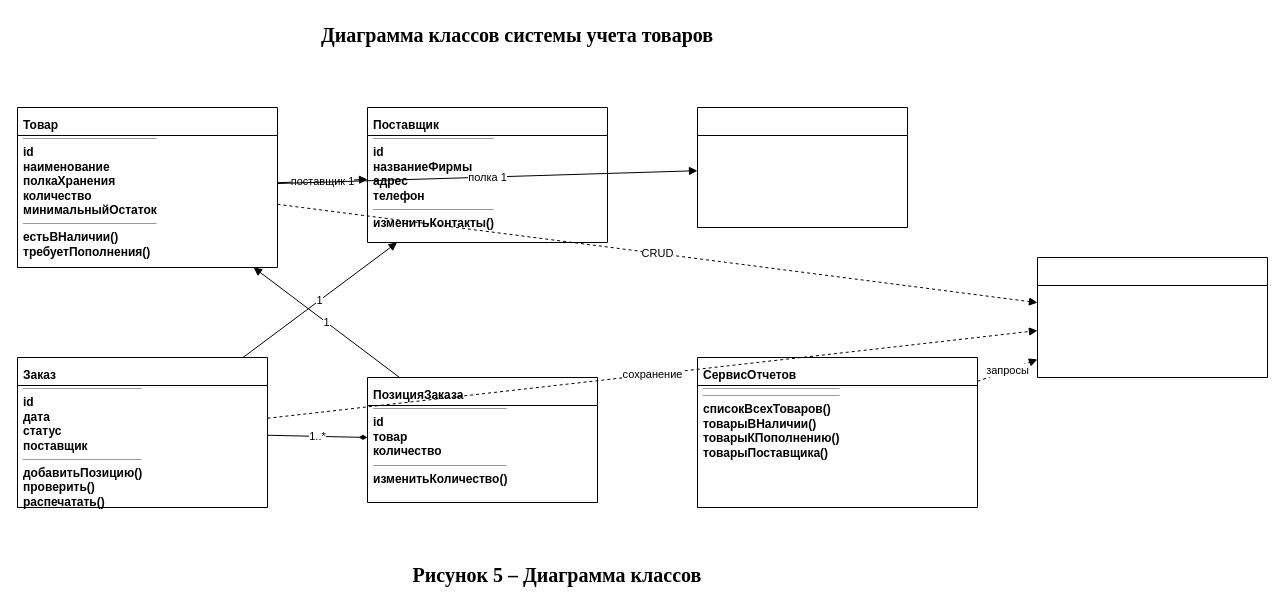
Some shapes in this 1285 by 608 pixel diagram are drawn without their labels. Each missing label, with the centre of its shape:
"Полка id код описание назначитьТовар()" goes at pixel 802 167.
"ХранилищеДанных сохранить() удалить() найти()" goes at pixel 1152 317.
